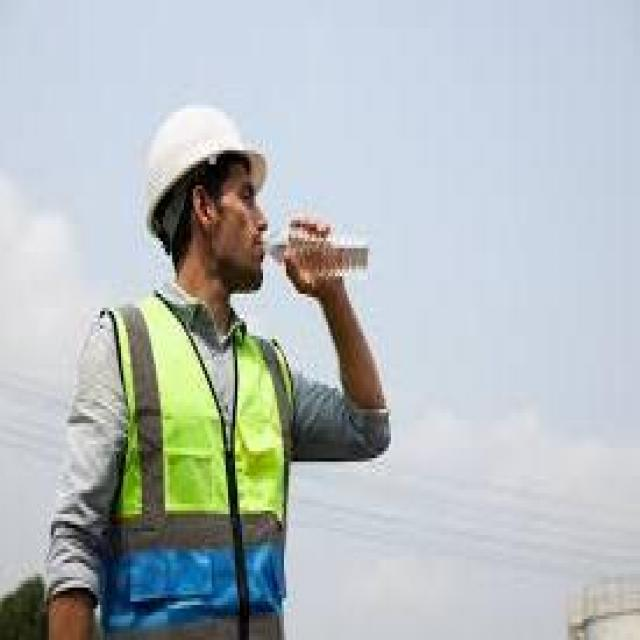Reflective-Jacket: (79, 284, 307, 608)
Safety-Helmet: (130, 91, 268, 231)
